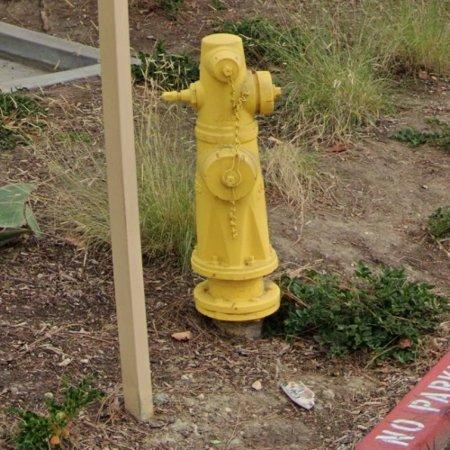a fire hydrant: (162, 33, 281, 338)
